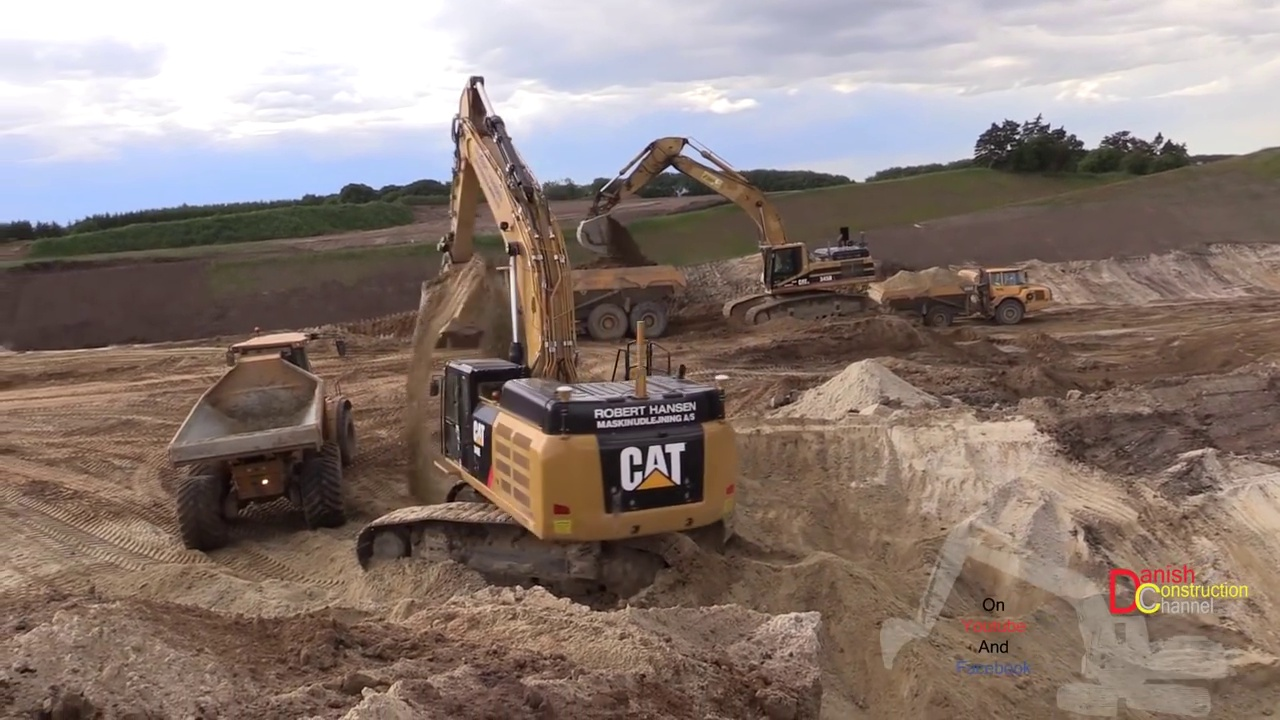dumper: (169, 333, 354, 546), (534, 255, 684, 343), (867, 261, 1055, 325)
excavator: (356, 74, 742, 608), (579, 139, 874, 334)
